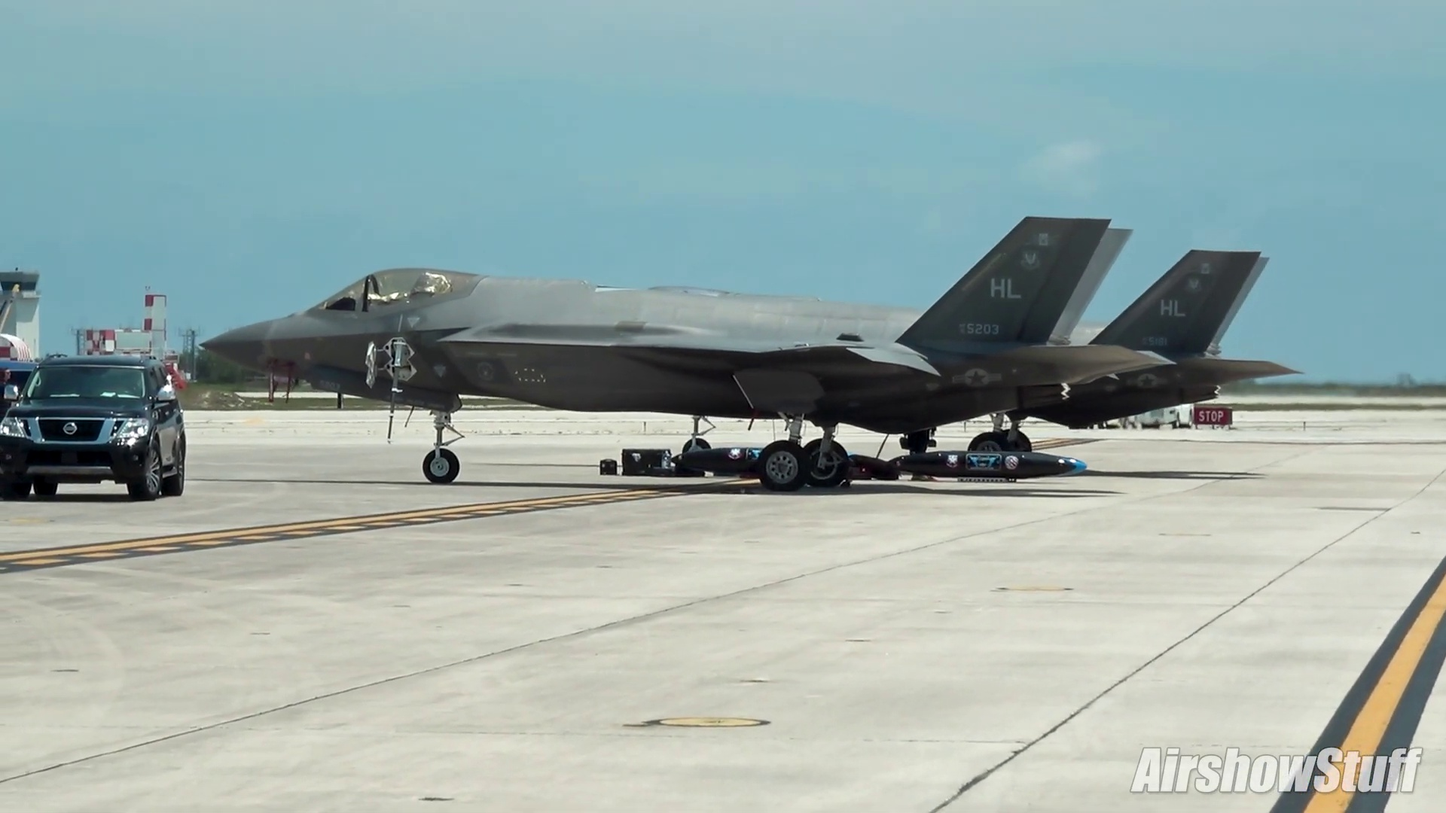F35: (175, 208, 1186, 499)
